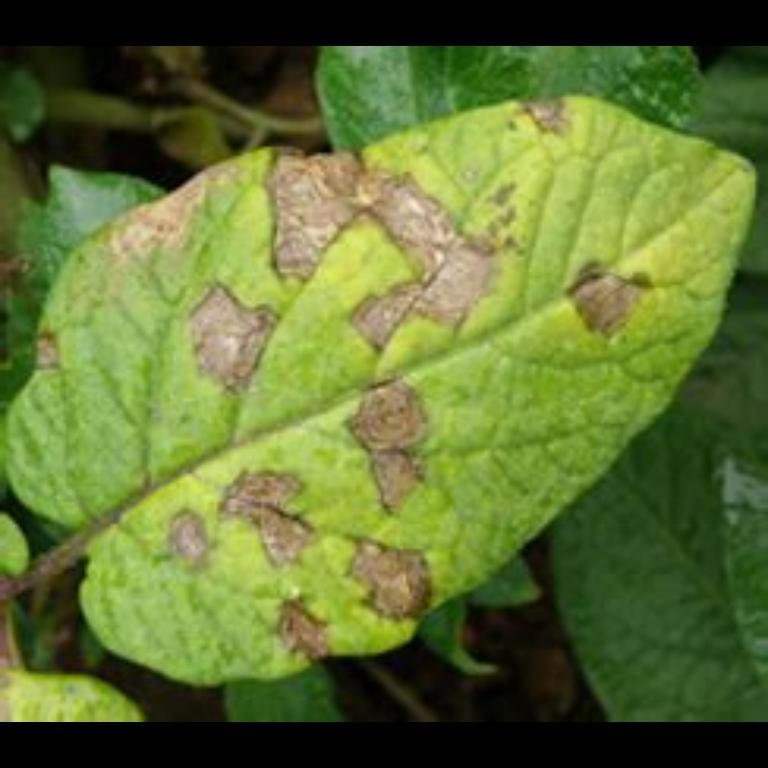blight: (255, 154, 494, 304)
